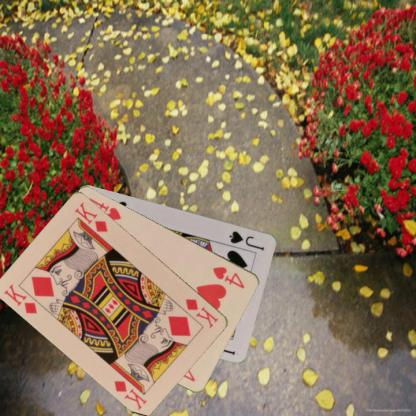4h: (210, 264, 246, 290)
Js: (226, 228, 266, 253)
Kd: (183, 296, 220, 330), (1, 282, 39, 315)
